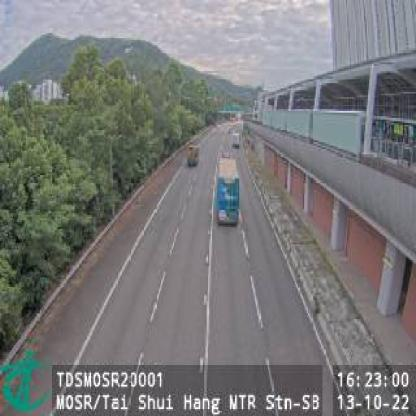Bus: (217, 155, 240, 229)
Truck: (186, 142, 199, 168)
